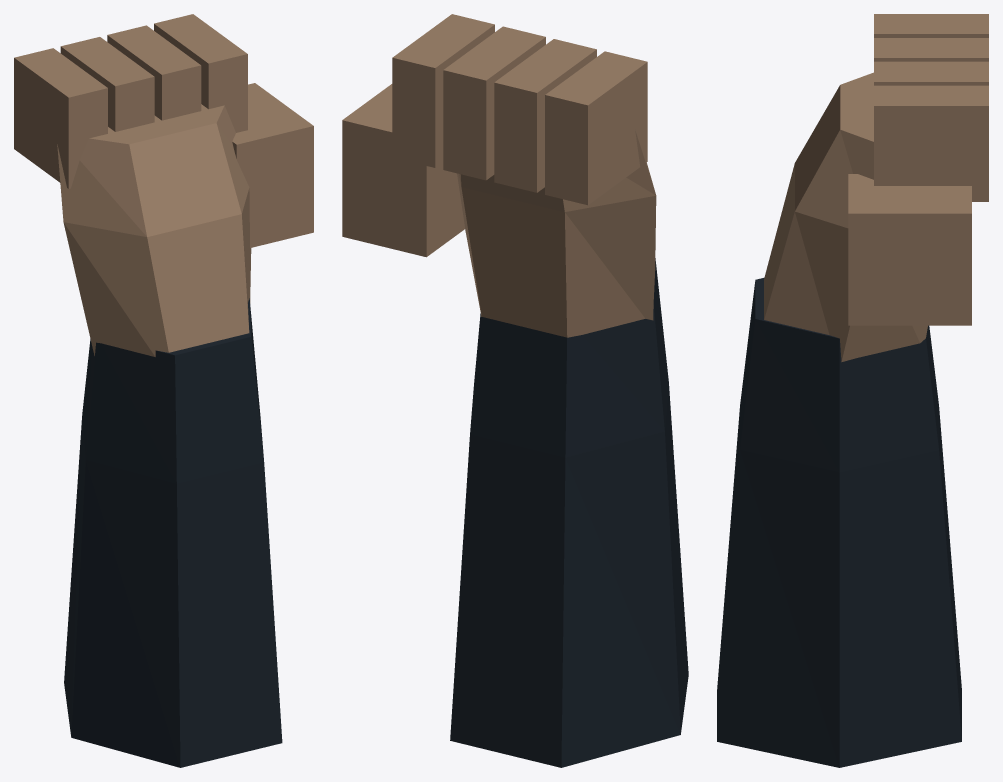
The model's file is la-hand-grip.glb.
3 views of the same model, side by side, from view 1: azimuth 30°, elevation 25°; view 2: azimuth 150°, elevation 25°; view 3: azimuth 270°, elevation 25° (orthographic). The views are drawn at different scales.
Parts seen in each view (by area): view 1: Surface; view 2: Surface; view 3: Surface.
Part boxes in pixels (<box>): Surface: <box>14,14,313,767</box>; Surface: <box>342,14,688,767</box>; Surface: <box>717,14,988,767</box>.
Size of the model in its own units: 0.1695 by 0.41 by 0.1538.
